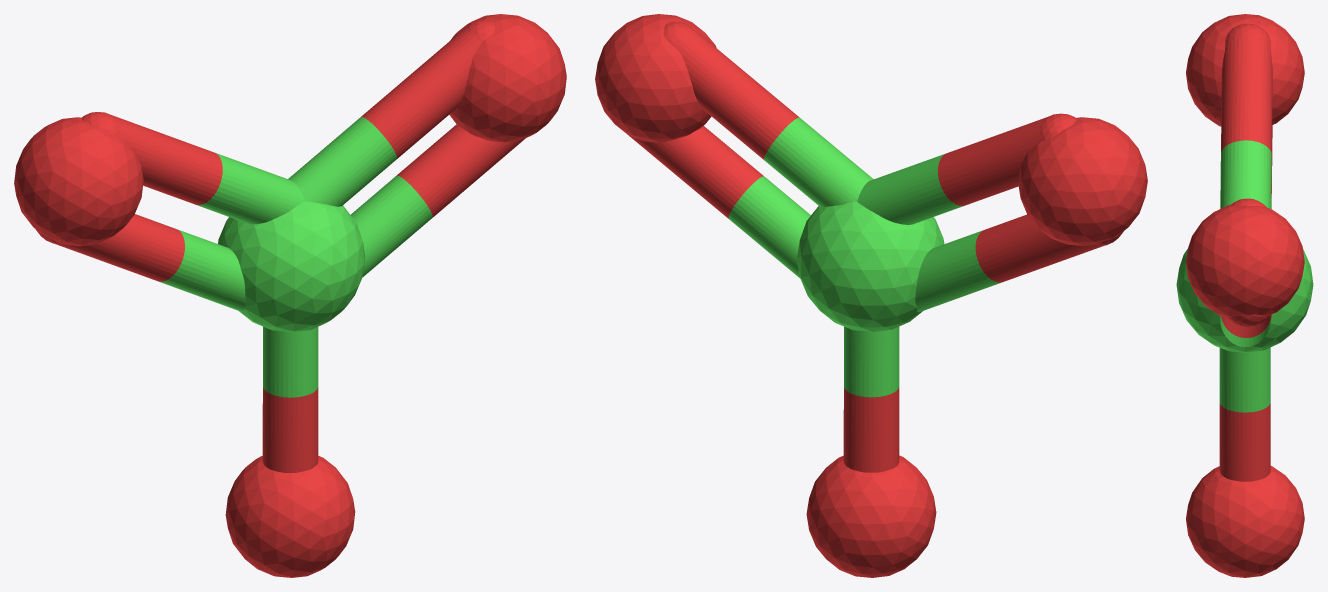
Rendered from chlorate.fbx.
3 views of the same model, side by side, from view 1: azimuth 30°, elevation 25°; view 2: azimuth 150°, elevation 25°; view 3: azimuth 270°, elevation 25° (orthographic). The views are drawn at different scales.
Visible parts, largest first — view 1: Shape_IndexedFaceSet, Shape_IndexedFaceSet.002, Shape_IndexedFaceSet.003, Shape_IndexedFaceSet.001, Shape_IndexedFaceSet.018, Shape_IndexedFaceSet.016, Shape_IndexedFaceSet.014, Shape_IndexedFaceSet.022, Shape_IndexedFaceSet.006, Shape_IndexedFaceSet.010, Shape_IndexedFaceSet.012, Shape_IndexedFaceSet.020 (+2 smaller); view 2: Shape_IndexedFaceSet, Shape_IndexedFaceSet.002, Shape_IndexedFaceSet.003, Shape_IndexedFaceSet.001, Shape_IndexedFaceSet.018, Shape_IndexedFaceSet.016, Shape_IndexedFaceSet.014, Shape_IndexedFaceSet.022, Shape_IndexedFaceSet.010, Shape_IndexedFaceSet.006, Shape_IndexedFaceSet.020, Shape_IndexedFaceSet.012 (+2 smaller); view 3: Shape_IndexedFaceSet.001, Shape_IndexedFaceSet.003, Shape_IndexedFaceSet.002, Shape_IndexedFaceSet.014, Shape_IndexedFaceSet, Shape_IndexedFaceSet.006, Shape_IndexedFaceSet.004, Shape_IndexedFaceSet.012, Shape_IndexedFaceSet.015, Shape_IndexedFaceSet.022, Shape_IndexedFaceSet.020, Shape_IndexedFaceSet.023 (+1 smaller).
Boxes of the visible parts, x1,y1,x2,y2 form: Shape_IndexedFaceSet: [218, 201, 365, 331]; Shape_IndexedFaceSet.002: [14, 117, 143, 245]; Shape_IndexedFaceSet.003: [225, 456, 355, 577]; Shape_IndexedFaceSet.001: [449, 14, 566, 142]; Shape_IndexedFaceSet.018: [361, 27, 482, 158]; Shape_IndexedFaceSet.016: [288, 117, 397, 206]; Shape_IndexedFaceSet.014: [112, 115, 222, 204]; Shape_IndexedFaceSet.022: [397, 124, 525, 217]; Shape_IndexedFaceSet.006: [262, 387, 318, 472]; Shape_IndexedFaceSet.010: [55, 214, 184, 281]; Shape_IndexedFaceSet.012: [197, 153, 304, 224]; Shape_IndexedFaceSet.020: [350, 175, 432, 276]; Shape_IndexedFaceSet: [797, 201, 944, 331]; Shape_IndexedFaceSet.002: [1018, 117, 1147, 245]; Shape_IndexedFaceSet.003: [806, 455, 936, 577]; Shape_IndexedFaceSet.001: [595, 14, 716, 142]; Shape_IndexedFaceSet.018: [675, 29, 799, 159]; Shape_IndexedFaceSet.016: [764, 117, 873, 207]; Shape_IndexedFaceSet.014: [938, 116, 1048, 205]; Shape_IndexedFaceSet.022: [628, 126, 763, 218]; Shape_IndexedFaceSet.010: [975, 214, 1103, 282]; Shape_IndexedFaceSet.006: [843, 387, 899, 472]; Shape_IndexedFaceSet.020: [728, 176, 810, 278]; Shape_IndexedFaceSet.012: [857, 154, 963, 224]; Shape_IndexedFaceSet.001: [1186, 205, 1304, 318]; Shape_IndexedFaceSet.003: [1186, 466, 1304, 577]; Shape_IndexedFaceSet.002: [1186, 14, 1304, 126]; Shape_IndexedFaceSet.014: [1221, 36, 1272, 152]; Shape_IndexedFaceSet: [1176, 249, 1313, 352]; Shape_IndexedFaceSet.006: [1219, 403, 1270, 481]; Shape_IndexedFaceSet.004: [1219, 347, 1270, 412]; Shape_IndexedFaceSet.012: [1220, 140, 1271, 208]; Shape_IndexedFaceSet.015: [1225, 23, 1270, 44]; Shape_IndexedFaceSet.022: [1221, 315, 1271, 337]; Shape_IndexedFaceSet.020: [1220, 316, 1271, 346]; Shape_IndexedFaceSet.023: [1228, 314, 1268, 327].
Size of the model in its own units: 3333 by 2996 by 806.
